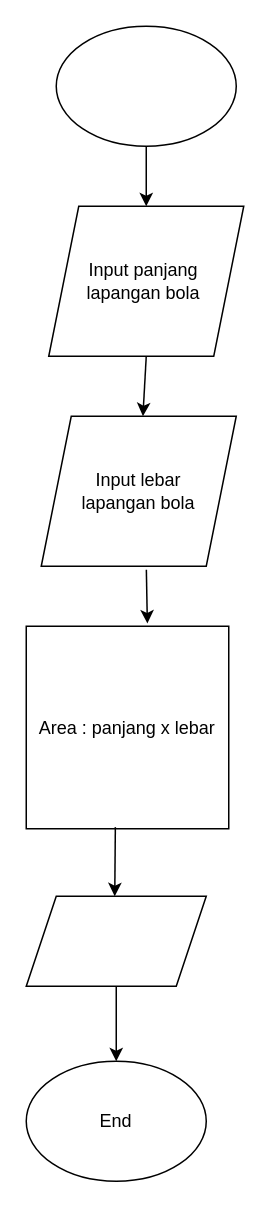
The diagram is 270 pixels wide and 1208 high, and some of its shapes have lost their labels. Each missing label, with the centre of its shape:
"Cetak Area" goes at (115,940).
"Start" goes at (145,85).
